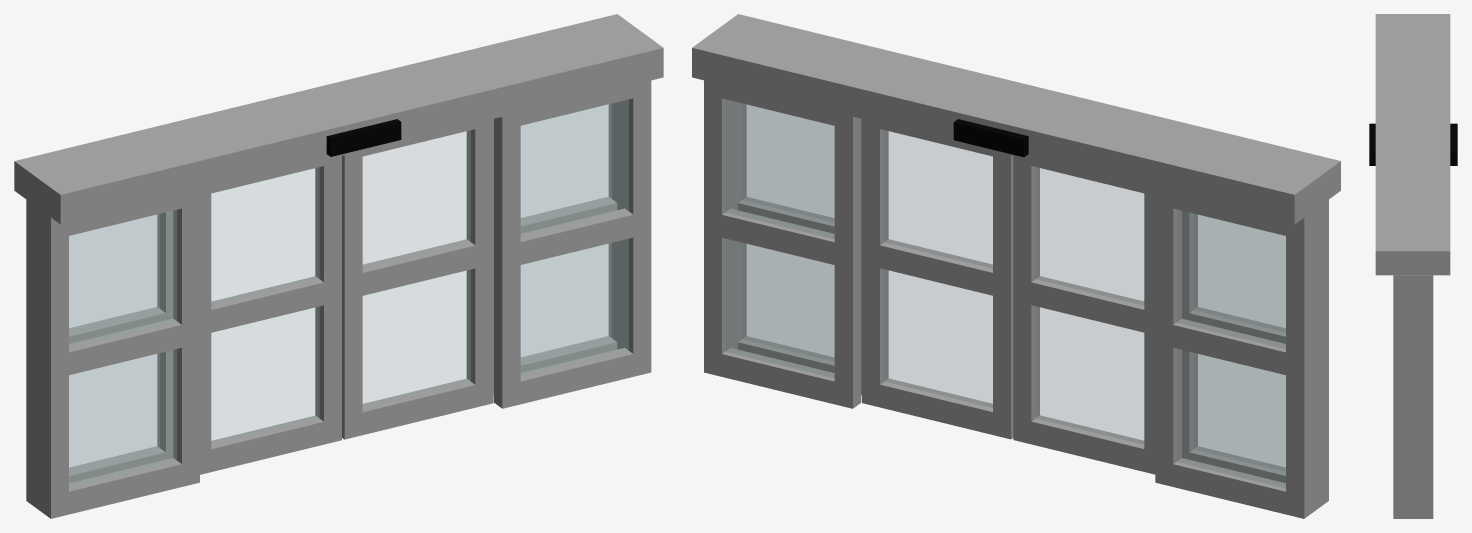
File: Door.glb
3 views of the same model, side by side, from view 1: azimuth 30°, elevation 25°; view 2: azimuth 150°, elevation 25°; view 3: azimuth 270°, elevation 25° (orthographic). The views are drawn at different scales.
Visible parts, largest first — view 1: SideFrame, SideFramePanels, TopFrame, LeftDoorPanels, RightDoorPanels, RightDoor, LeftDoor; view 2: SideFrame, SideFramePanels, TopFrame, RightDoorPanels, LeftDoorPanels, RightDoor, LeftDoor; view 3: TopFrame, SideFrame.
Part boxes in pixels (box(x1,y1,x2,y2)): SideFrame: box(26, 80, 651, 518); SideFramePanels: box(69, 99, 628, 486); TopFrame: box(14, 14, 663, 224); LeftDoorPanels: box(211, 167, 319, 444); RightDoorPanels: box(363, 130, 470, 407); RightDoor: box(342, 119, 493, 439); LeftDoor: box(200, 156, 341, 474); SideFrame: box(704, 80, 1328, 518); SideFramePanels: box(725, 100, 1285, 487); TopFrame: box(692, 14, 1340, 224); RightDoorPanels: box(884, 130, 992, 407); LeftDoorPanels: box(1036, 167, 1143, 444); RightDoor: box(862, 119, 1013, 439); LeftDoor: box(1013, 156, 1155, 474); TopFrame: box(1369, 14, 1457, 275); SideFrame: box(1393, 275, 1433, 518).
Size of the model in its own units: 7.02 by 3.7 by 1.11.
